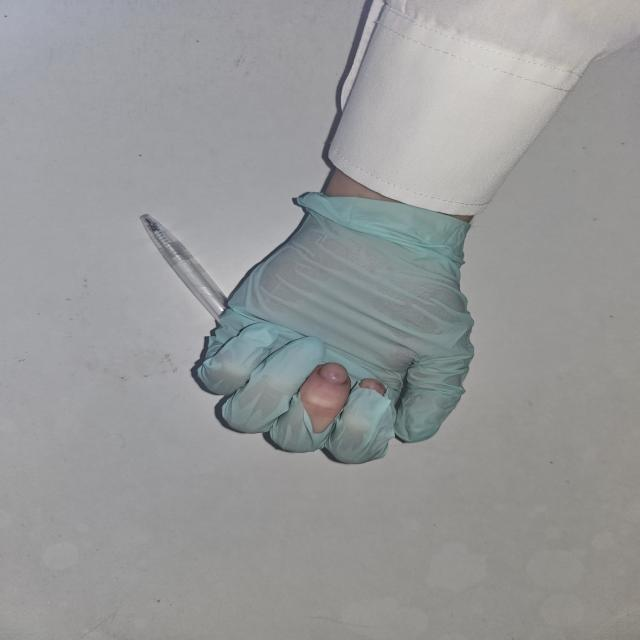gloves_damaged: (186, 183, 482, 464)
